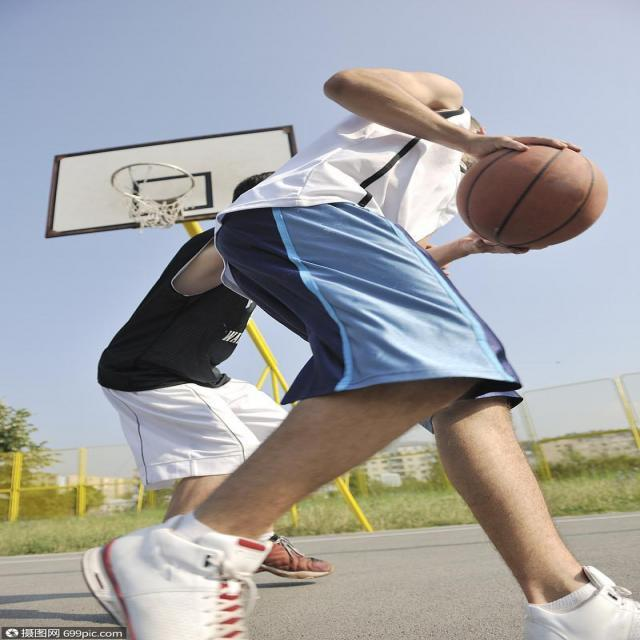rim: (463, 138, 610, 249)
